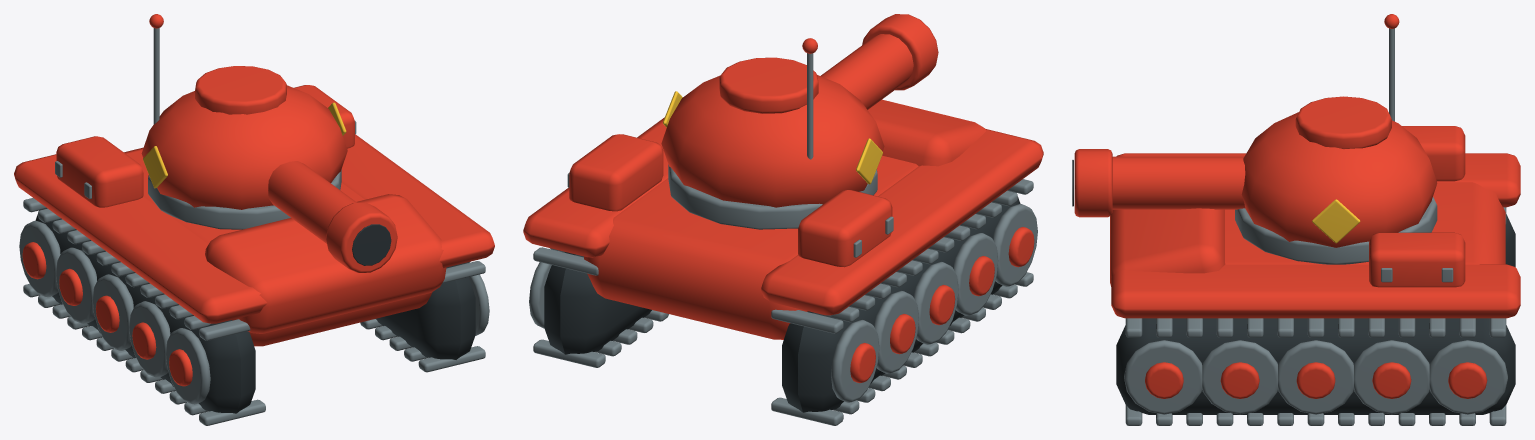
Rendered from COM-TANK-02.glb.
The picture shows the model from 3 angles, left to right: view 1: azimuth 30°, elevation 25°; view 2: azimuth 150°, elevation 25°; view 3: azimuth 270°, elevation 25°; orthographic projection. The views are drawn at different scales.
Visible parts, largest first — view 1: sloped glacis, cast turret, swept fender.001, swept fender, continuous belt.001, continuous belt, storage bin.001, cannon, cupola, hull, turret collar, muzzle ring (+19 smaller); view 2: hull, cast turret, swept fender.001, continuous belt.001, continuous belt, storage bin, storage bin.001, sloped glacis, swept fender, cupola, cannon, turret collar (+18 smaller); view 3: swept fender, cast turret, continuous belt, sloped glacis, cannon, hull, storage bin, cupola, road wheel, road wheel.004, road wheel.003, road wheel.001 (+13 smaller).
Part boxes in pixels (<box>): sloped glacis: <box>205,194,446,333</box>; cast turret: <box>141,85,347,209</box>; swept fender.001: <box>14,154,267,323</box>; swept fender: <box>341,134,494,268</box>; continuous belt.001: <box>35,210,255,413</box>; continuous belt: <box>376,265,475,359</box>; storage bin.001: <box>56,136,143,207</box>; cannon: <box>268,161,356,243</box>; cupola: <box>195,66,286,114</box>; hull: <box>124,147,432,346</box>; turret collar: <box>148,169,341,229</box>; muzzle ring: <box>326,202,397,272</box>; hull: <box>584,155,918,339</box>; cast turret: <box>661,75,884,207</box>; swept fender.001: <box>761,129,1043,315</box>; continuous belt.001: <box>782,192,1020,412</box>; continuous belt: <box>544,252,651,354</box>; storage bin: <box>569,134,663,211</box>; storage bin.001: <box>798,190,892,267</box>; sloped glacis: <box>868,99,985,166</box>; swept fender: <box>523,117,668,257</box>; cupola: <box>719,57,818,113</box>; cannon: <box>821,34,913,109</box>; turret collar: <box>668,164,877,229</box>; swept fender: <box>1111,264,1520,318</box>; cast turret: <box>1241,112,1437,247</box>; continuous belt: <box>1116,318,1515,414</box>; sloped glacis: <box>1110,208,1225,286</box>; cannon: <box>1112,156,1245,209</box>; hull: <box>1225,182,1505,264</box>; storage bin: <box>1369,232,1465,287</box>; cupola: <box>1295,96,1391,148</box>; road wheel: <box>1429,340,1507,414</box>; road wheel.004: <box>1124,340,1202,414</box>; road wheel.003: <box>1202,340,1277,414</box>; road wheel.001: <box>1354,340,1429,414</box>.
Bounding box in the file's own units: 1.43 × 1.37 × 1.77.
